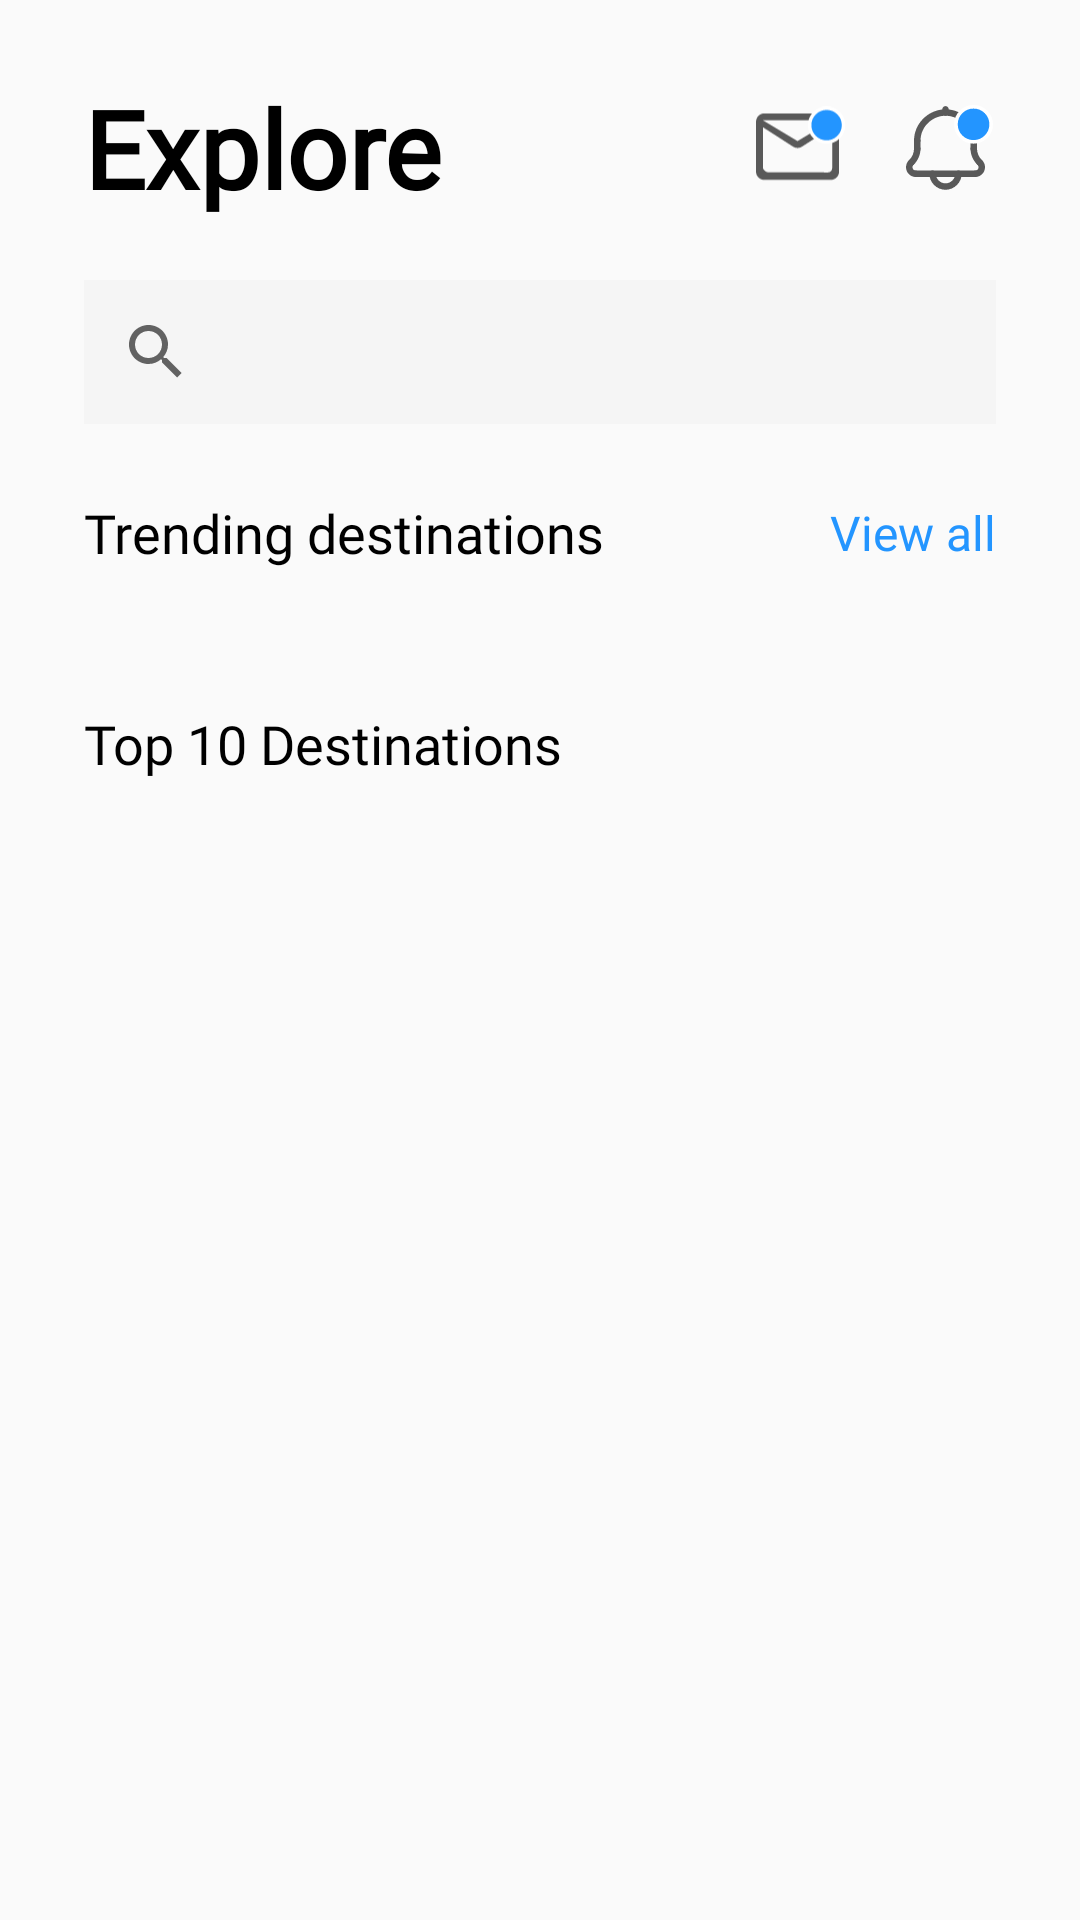

Named icons in this screenshot (1080x1920) and their bounding boxes, {"x1": x1, "y1": y1, "x2": x2, "y2": y2}:
btnnotifications: {"x1": 906, "y1": 106, "x2": 990, "y2": 190}
message: {"x1": 756, "y1": 109, "x2": 842, "y2": 180}
